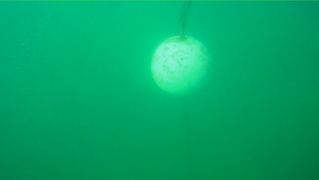buoy: (150, 34, 214, 97)
